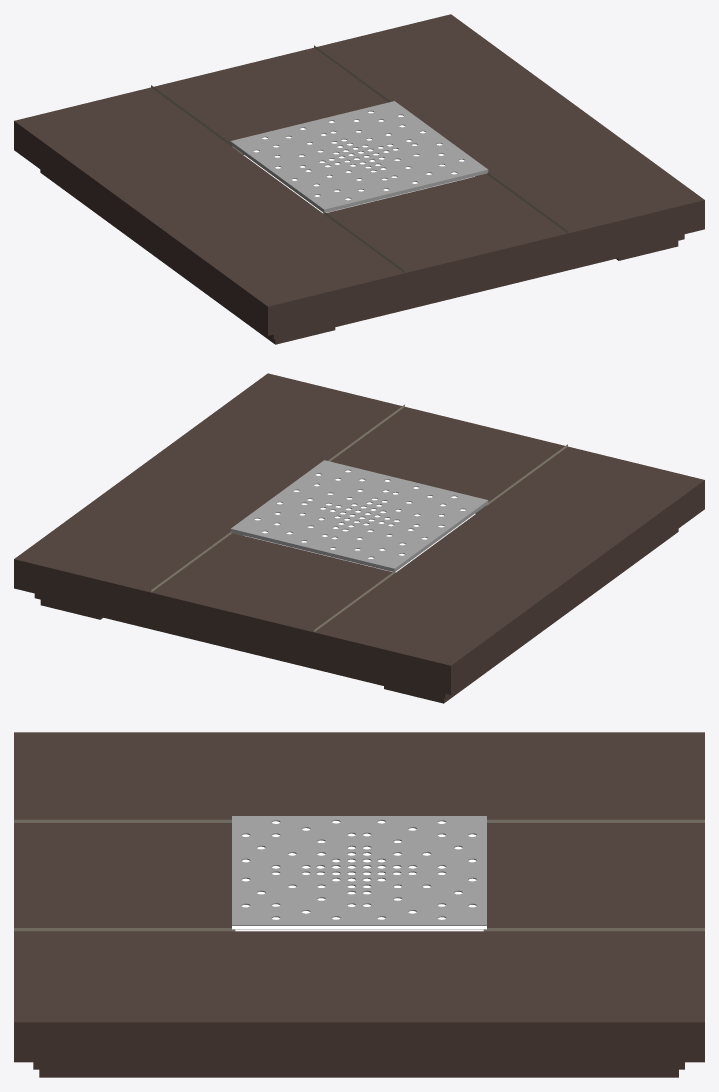
3 renders of one model, top to bottom at view 1: azimuth 30°, elevation 25°; view 2: azimuth 150°, elevation 25°; view 3: azimuth 270°, elevation 25°, orthographic. The views are drawn at different scales.
Parts seen in each view (by area): view 1: MainModel:1, MainModel:metal, MainModel:0, MainModel:Unlit; view 2: MainModel:1, MainModel:metal, MainModel:0, MainModel:Unlit; view 3: MainModel:1, MainModel:metal, MainModel:0, MainModel:Unlit.
Part boxes in pixels (bbox=[...]): MainModel:1: bbox=[14, 14, 704, 344]; MainModel:metal: bbox=[230, 101, 488, 213]; MainModel:0: bbox=[151, 45, 567, 272]; MainModel:Unlit: bbox=[253, 111, 464, 200]; MainModel:1: bbox=[14, 373, 704, 703]; MainModel:metal: bbox=[230, 460, 488, 572]; MainModel:0: bbox=[151, 404, 567, 631]; MainModel:Unlit: bbox=[254, 470, 465, 558]; MainModel:1: bbox=[14, 732, 704, 1077]; MainModel:metal: bbox=[232, 816, 486, 929]; MainModel:0: bbox=[14, 819, 704, 931]; MainModel:Unlit: bbox=[232, 821, 486, 929].
Bounding box in the file's own units: 1.67 × 0.1975 × 1.68.
